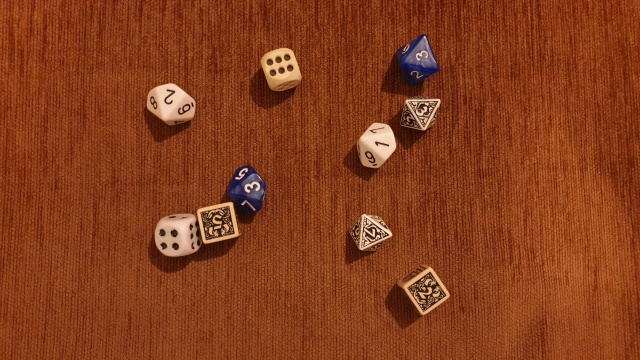d10-1: (348, 119, 398, 172)
d10-2: (140, 80, 199, 133)
d10-3: (397, 31, 439, 87), (227, 163, 270, 214)
d6-4: (148, 210, 201, 261)
d6-6: (256, 44, 306, 97)
d6p-2: (392, 262, 453, 320)
d6p-5: (192, 202, 243, 247)
d8p-3: (394, 92, 442, 138)
d8p-7: (347, 211, 392, 259)
